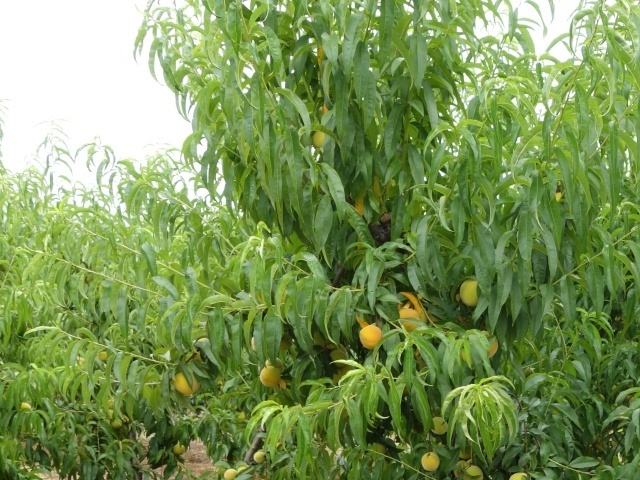peach: (168, 365, 203, 399), (454, 277, 487, 310), (353, 323, 385, 354), (325, 345, 354, 369), (259, 364, 284, 390), (419, 449, 443, 476), (428, 415, 450, 438), (309, 128, 330, 151), (463, 462, 485, 480)
